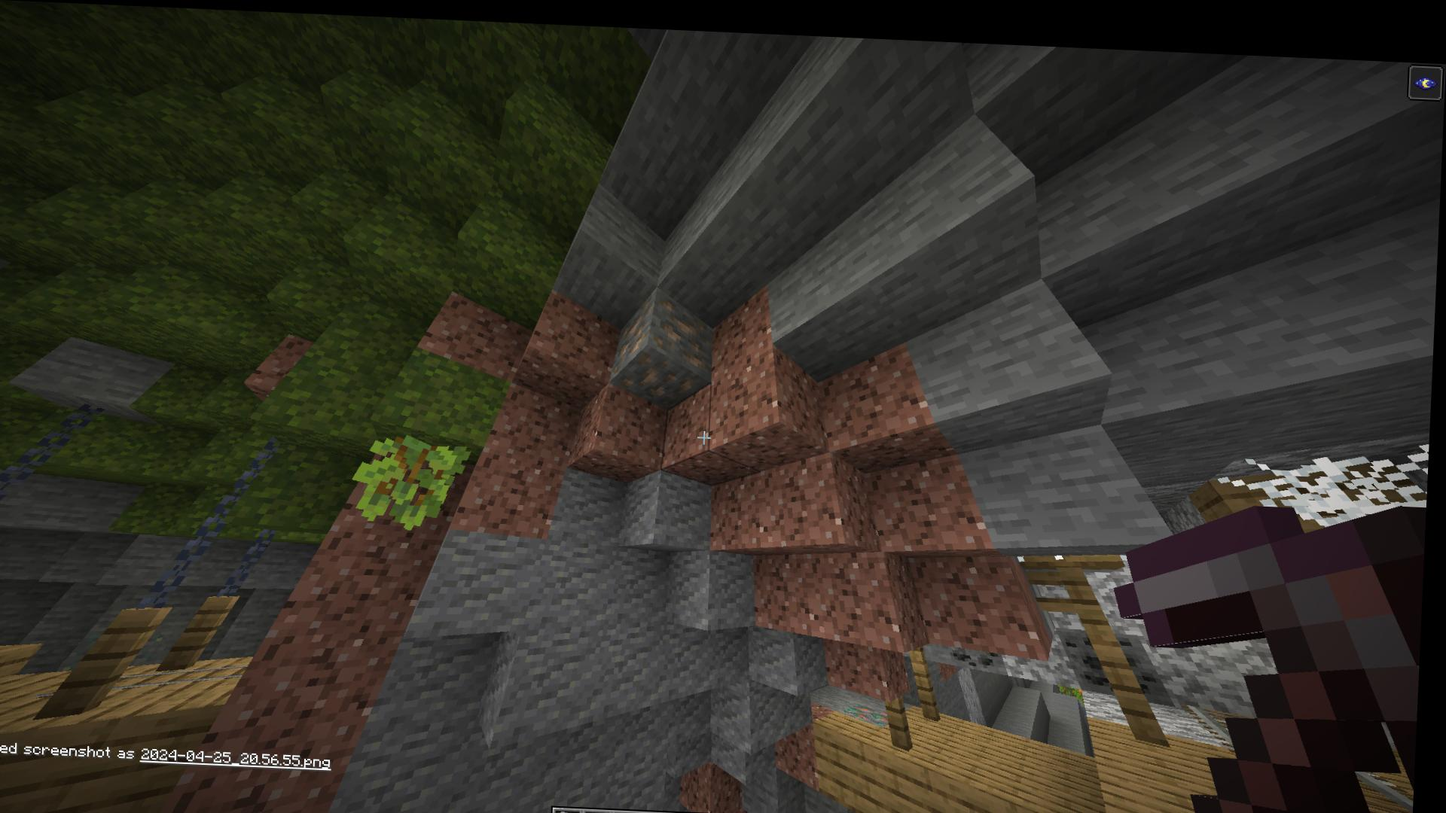iron ore: (655, 291, 719, 359), (618, 351, 709, 394), (616, 290, 657, 364)
